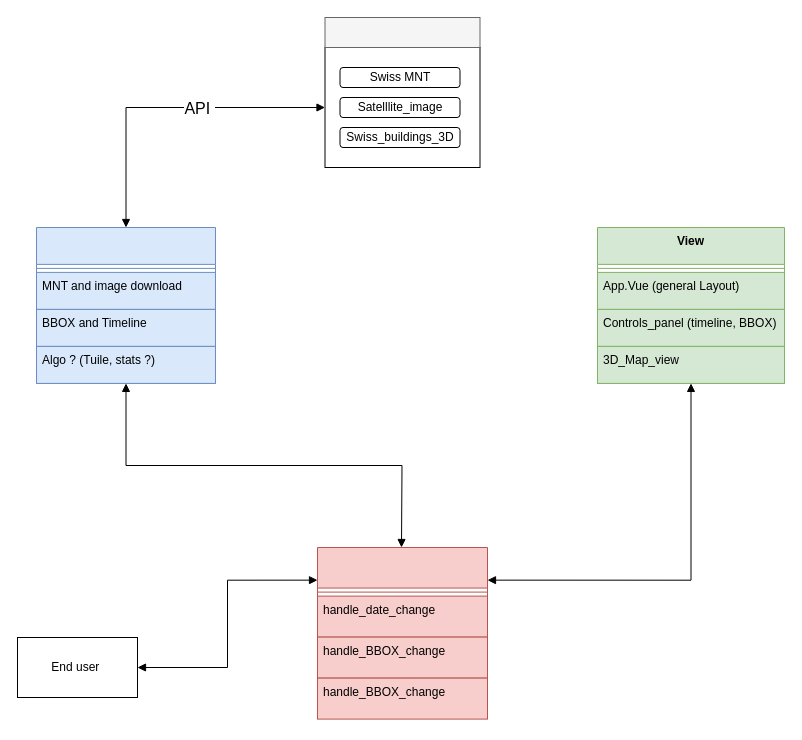
Image size: 802x740. Some labels were removed from this diagram. The shapes that lost their labels are listed below. From the top down, each one's box as (x1, y1, x2, y2) in pixels, then its label:
(324, 16, 480, 48): Database
(36, 226, 216, 383): Model
(316, 546, 488, 678): Controller
